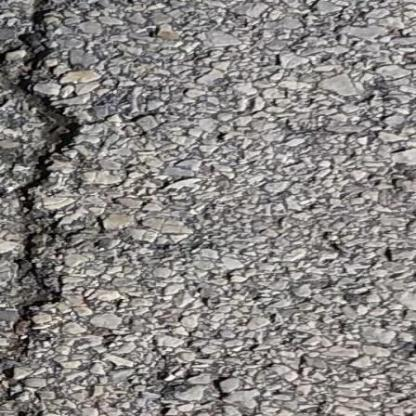Cracks: (0, 0, 93, 416)
